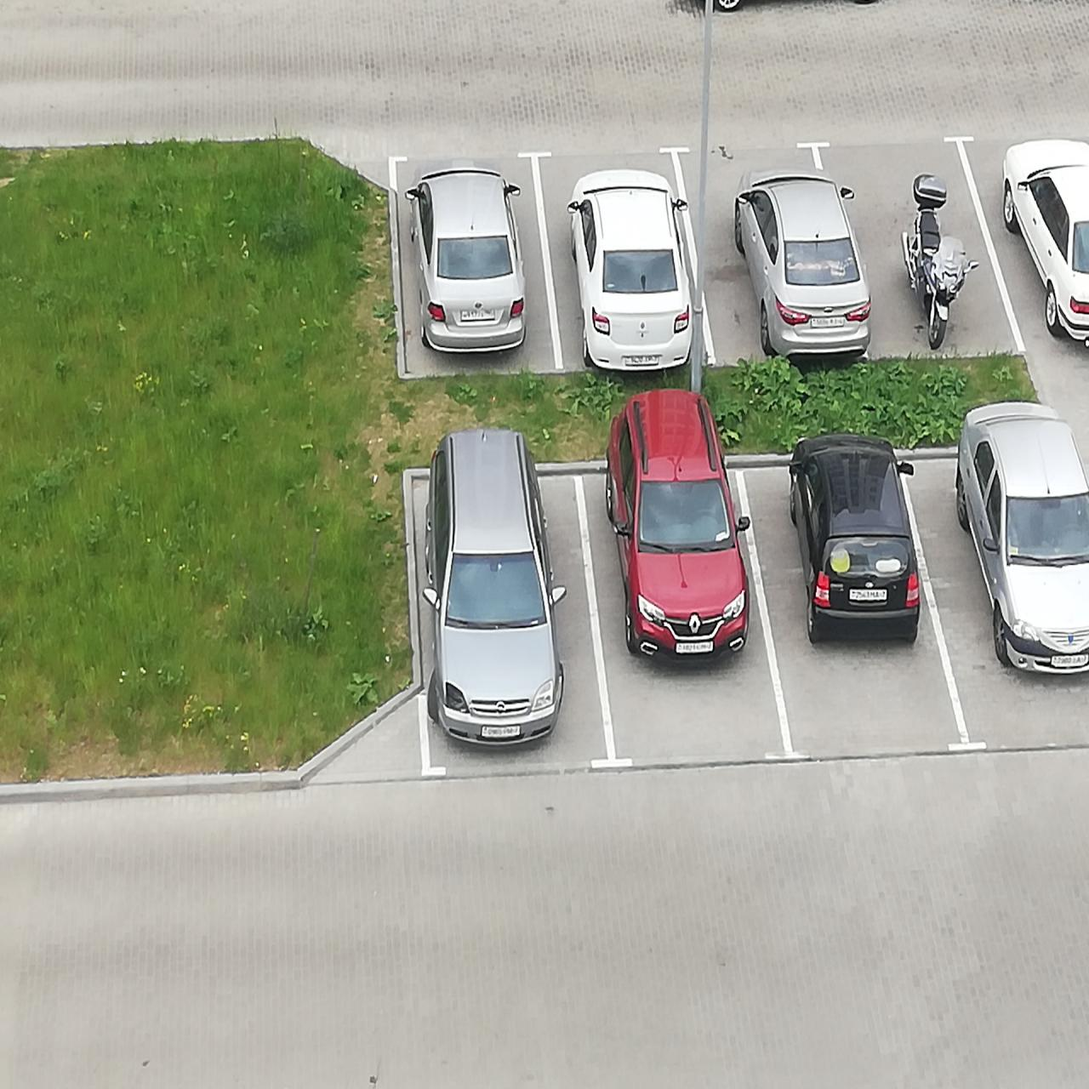cars: (576, 442, 783, 769), (743, 438, 928, 758), (414, 457, 593, 785), (943, 417, 1089, 748), (842, 125, 1002, 350), (696, 137, 842, 359), (401, 148, 546, 368), (548, 148, 694, 361), (984, 120, 1089, 359)
